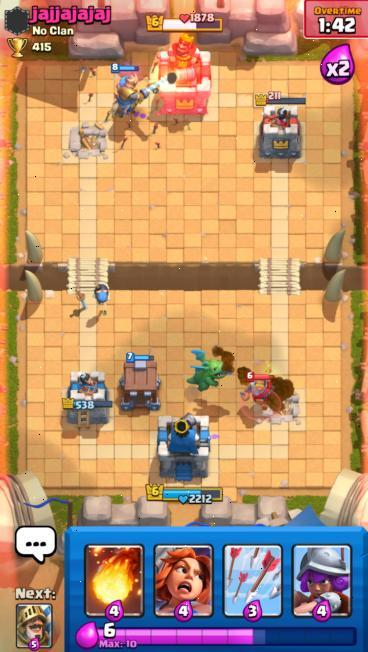EKingTower: (157, 35, 211, 115)
EKnight: (246, 372, 282, 413)
EnemyPrincessTower: (257, 105, 301, 160)
OBabyDrag: (187, 350, 225, 391)
OBomber: (94, 284, 111, 315)
OGoblinCage: (119, 353, 159, 410)
OPrince: (111, 64, 149, 118)
OwnKingTower: (157, 413, 210, 481)
OwnPrincessTower: (63, 373, 111, 424)
TowerDown: (61, 121, 114, 163), (254, 389, 307, 430)
